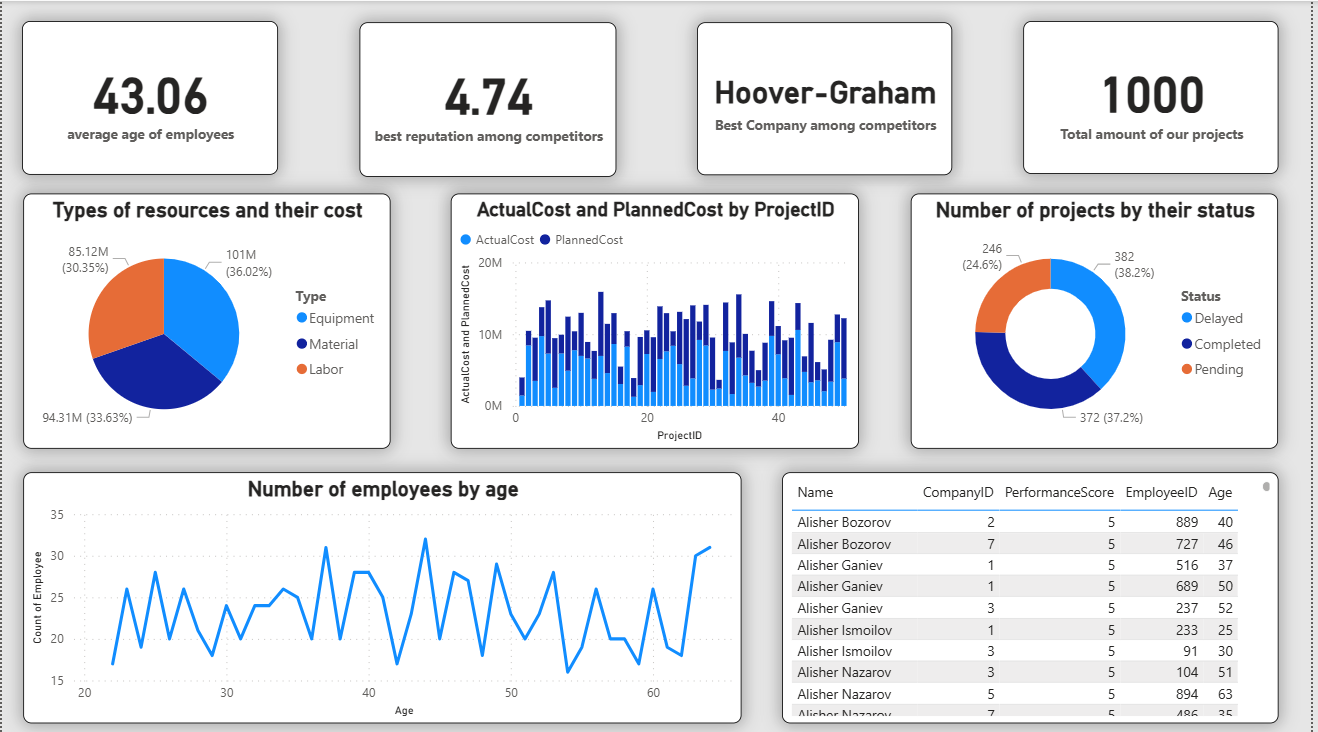

The page's visual inventory and layout, read from the dashboard file:
{"tool":"powerbi","page":{"name":"Main","canvas":[1280,720],"ordinal":0},"visuals":[{"type":"card","fields":{"Values":["Companies.avg_age"]},"box":[20,20,250,150],"z":0},{"type":"card","fields":{"Values":["Companies.Total amount of our projects"]},"box":[999,19.2,249.7,149.6],"z":1000},{"type":"card","fields":{"Values":["Companies.Best Company"]},"box":[679.2,20.6,249.7,149.6],"z":2000},{"type":"card","fields":{"Values":["Companies.best_reputation"]},"box":[349.9,20.6,251.1,150.9],"z":3000},{"type":"lineChart","title":"Number of employees by age","fields":{"Category":["Employees.Age"],"Y":["CountNonNull(Employees.EmployeeID)"]},"box":[20.6,461.1,702.6,245.6],"z":4000},{"type":"pieChart","title":"Types of resources and their cost","fields":{"Category":["Resources.Type"],"Y":["Sum(Resources.Cost)"]},"box":[20.6,188,359.5,249.7],"z":5000},{"type":"columnChart","title":" ActualCost and PlannedCost by ProjectID","fields":{"Category":["Projects.ProjectID"],"Y":["Sum(Projects.ActualCost)","Sum(Projects.PlannedCost)"]},"box":[439.1,188,399.3,249.7],"z":6000},{"type":"donutChart","title":"Number of projects by their status","fields":{"Category":["Milestones.Status"],"Y":["CountNonNull(Milestones.Name)"]},"box":[889.2,188,359.5,249.7],"z":7000},{"type":"tableEx","title":" ActualCost and PlannedCost by ProjectID","fields":{"Values":["Employees.Name","Employees.CompanyID","Employees.PerformanceScore","Employees.EmployeeID","Employees.Age"]},"box":[763,461.1,485.8,245.6],"z":8000}]}

Visuals, with their boxes in screenshot pixels (x1, y1, x2, y2), scaled from the page's 1280x720 canvas onto the 1318x732 screenshot:
card - Companies.avg_age: [left=21, top=20, right=278, bottom=173]
card - Companies.Total amount of our projects: [left=1029, top=20, right=1286, bottom=172]
card - Companies.Best Company: [left=699, top=21, right=956, bottom=173]
card - Companies.best_reputation: [left=360, top=21, right=619, bottom=174]
"Number of employees by age" lineChart: [left=21, top=469, right=745, bottom=718]
"Types of resources and their cost" pieChart: [left=21, top=191, right=391, bottom=445]
" ActualCost and PlannedCost by ProjectID" columnChart: [left=452, top=191, right=863, bottom=445]
"Number of projects by their status" donutChart: [left=916, top=191, right=1286, bottom=445]
" ActualCost and PlannedCost by ProjectID" tableEx: [left=786, top=469, right=1286, bottom=718]
